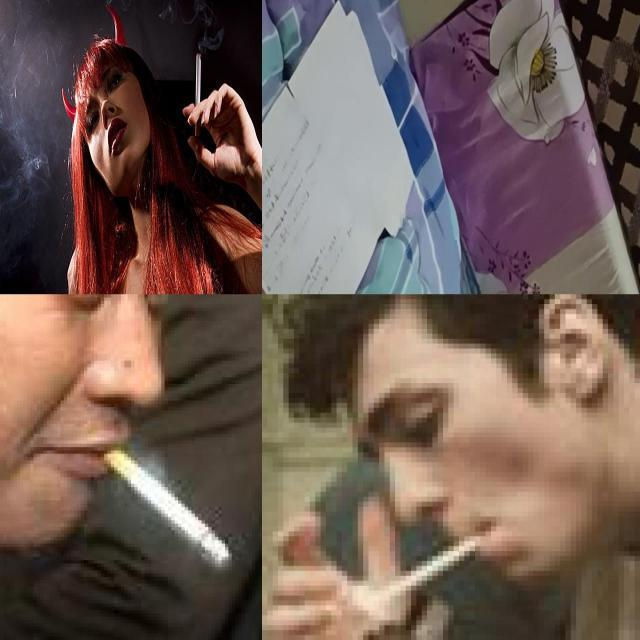smoke: (80, 434, 242, 574), (358, 522, 507, 610), (195, 51, 202, 138)
